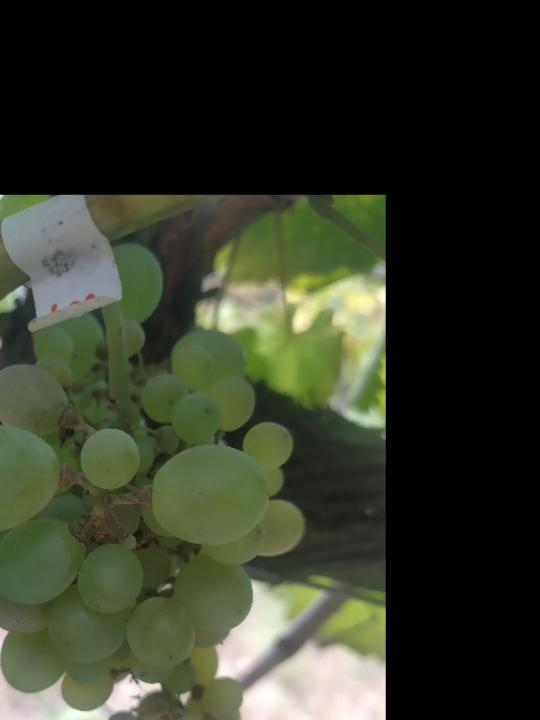grape: (0, 239, 310, 720)
